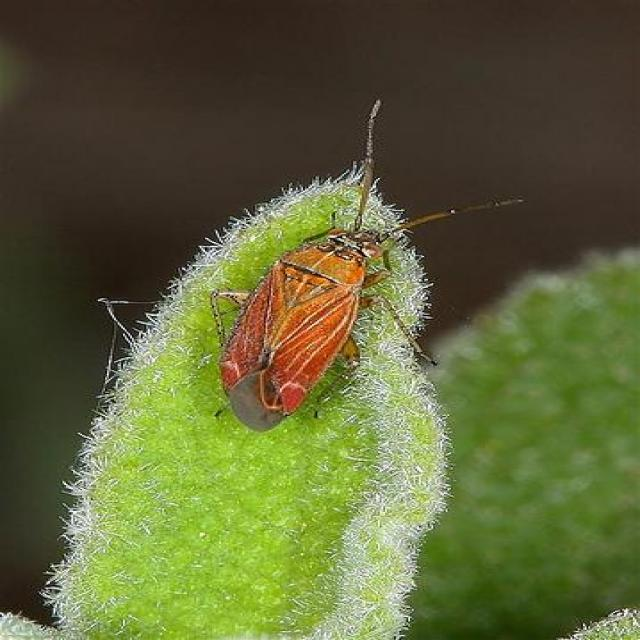Miridae-Adult-: (203, 96, 540, 445)
